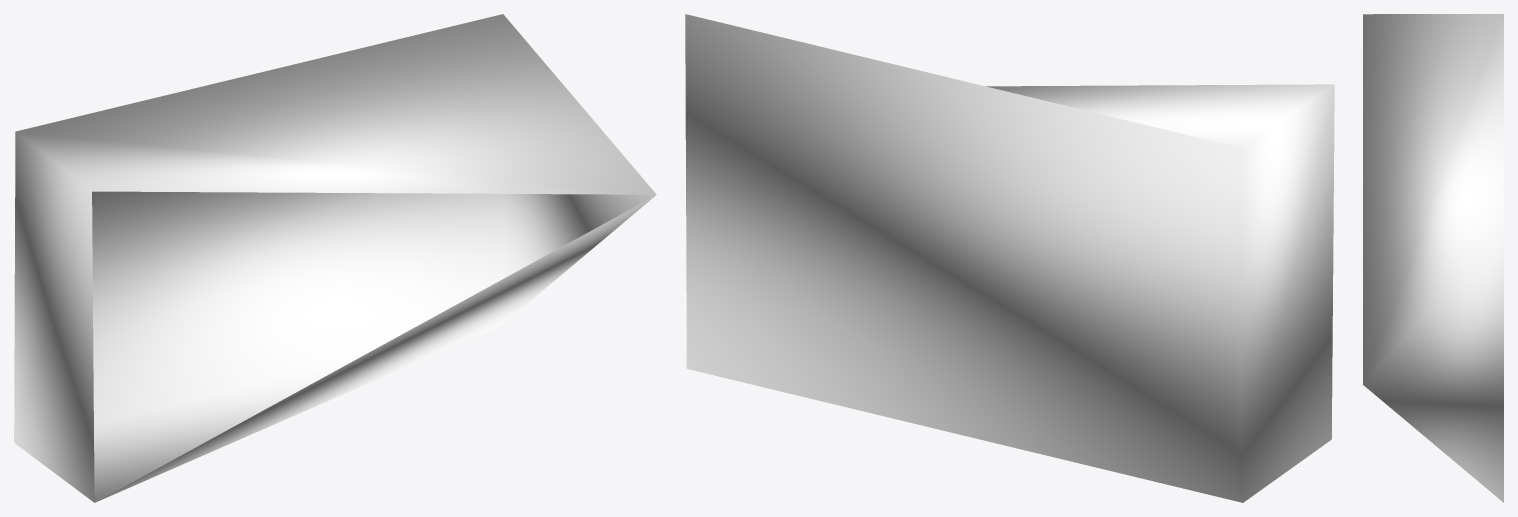
3 renders of one model, left to right at view 1: azimuth 30°, elevation 25°; view 2: azimuth 150°, elevation 25°; view 3: azimuth 270°, elevation 25°, orthographic. The views are drawn at different scales.
Bounding box in the file's own units: 0.1904 × 0.101 × 0.0462.
1 material, 1 textured.
